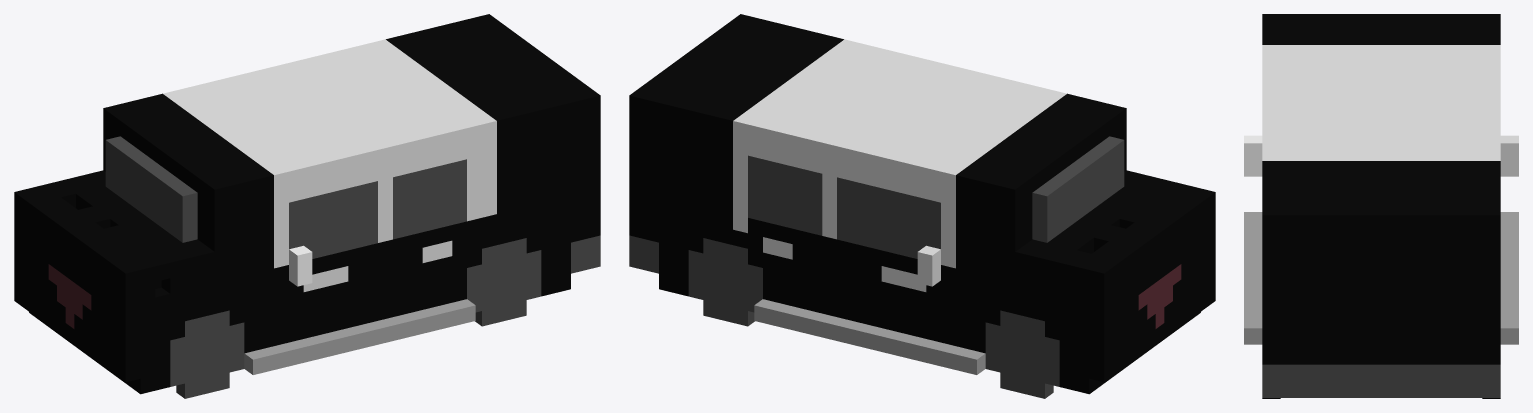
Rendered from car_16.glb.
3 views of the same model, side by side, from view 1: azimuth 30°, elevation 25°; view 2: azimuth 150°, elevation 25°; view 3: azimuth 270°, elevation 25° (orthographic). The views are drawn at different scales.
Parts seen in each view (by area): view 1: ObjObject.009; view 2: ObjObject.009; view 3: ObjObject.009.
Boxes of the visible parts, x1,y1,x2,y2 form: ObjObject.009: (14,14,600,398); ObjObject.009: (629,14,1215,398); ObjObject.009: (1244,14,1518,398).
Bounding box in the file's own units: 3.2 × 1.3 × 1.5.
1 material, 1 textured.
